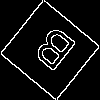B: (25, 24, 79, 80)
